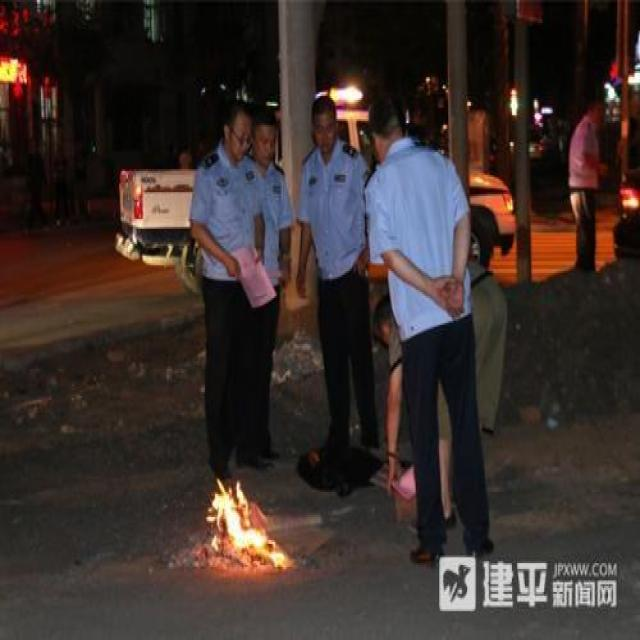fire: (160, 418, 323, 589)
other: (310, 61, 371, 112), (493, 76, 552, 127), (604, 161, 636, 218), (1, 50, 34, 90)
